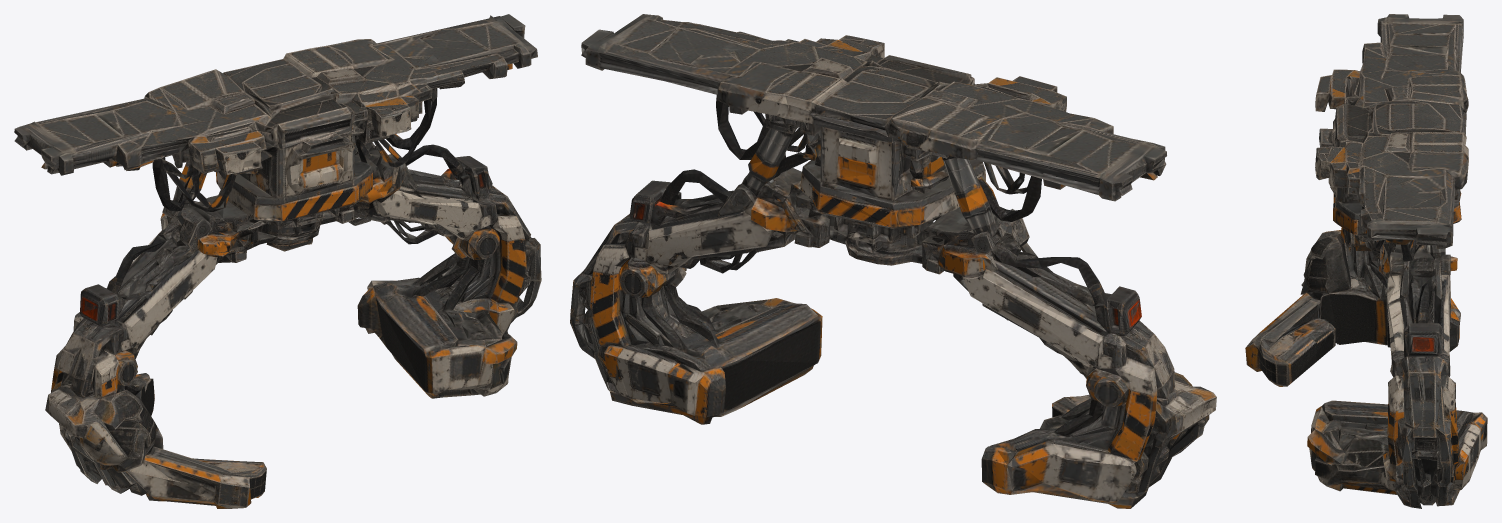
3 renders of one model, left to right at view 1: azimuth 30°, elevation 25°; view 2: azimuth 150°, elevation 25°; view 3: azimuth 270°, elevation 25°, orthographic. The views are drawn at different scales.
Visible parts, largest first — view 1: Mesh_0; view 2: Mesh_0; view 3: Mesh_0.
Boxes of the visible parts, bbox=[...] form: Mesh_0: bbox=[14, 14, 541, 508]; Mesh_0: bbox=[570, 14, 1216, 508]; Mesh_0: bbox=[1245, 14, 1487, 508].
Size of the model in its own units: 1.9 by 1.21 by 0.8474.
1 material, 1 textured.
